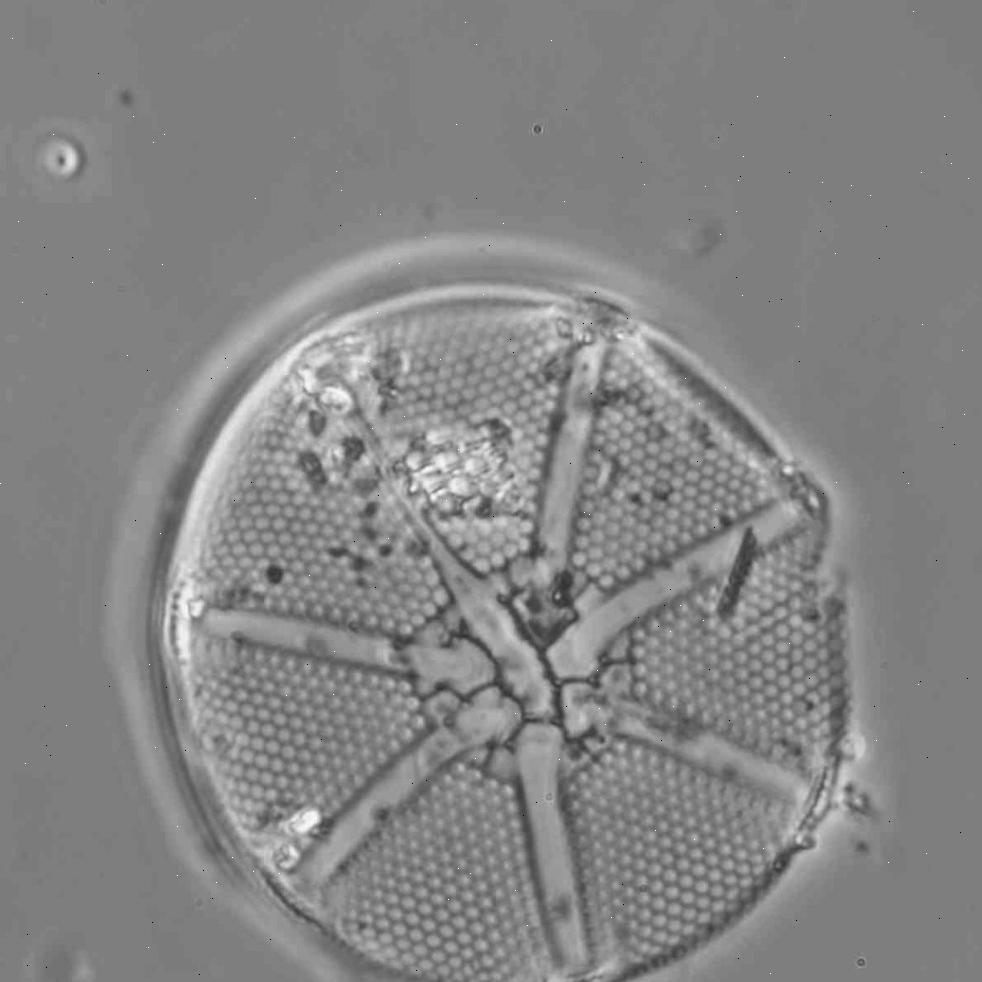asteromphalus_hyalinus: (167, 298, 850, 982)
